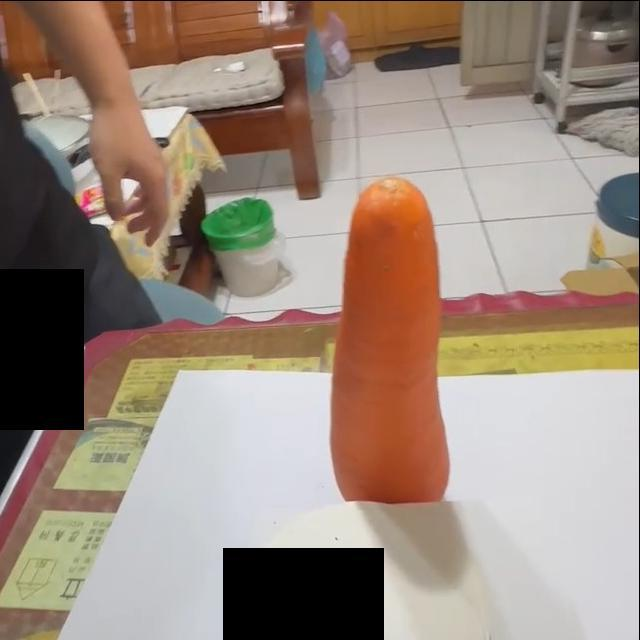carrot: (332, 176, 445, 509)
